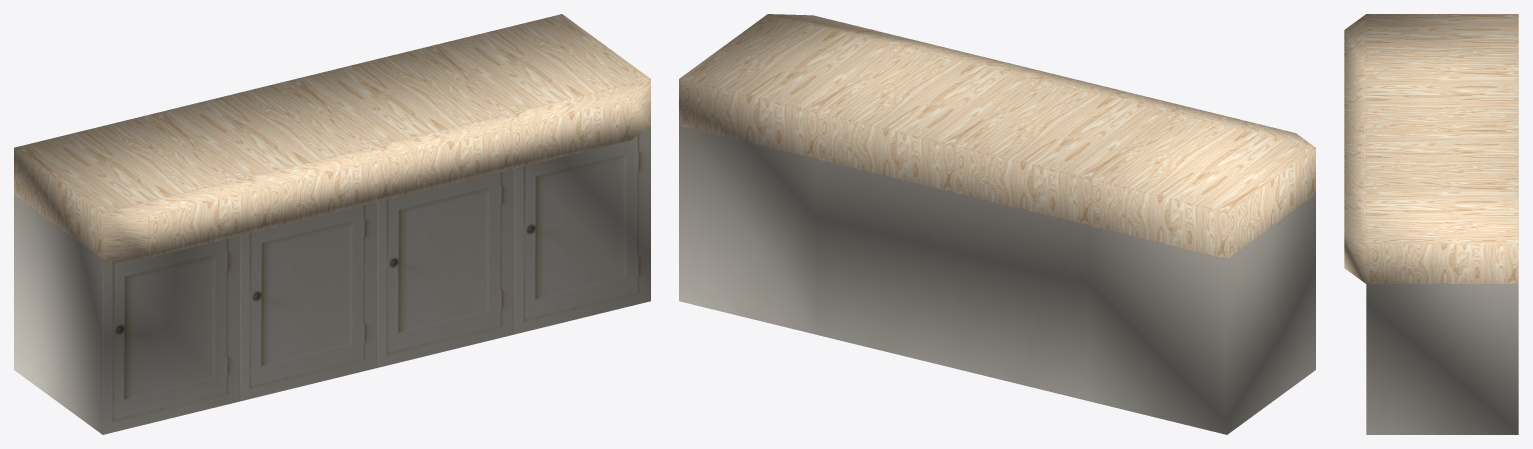
Rendered from kitchen_cabinet_top.fbx.
3 renders of one model, left to right at view 1: azimuth 30°, elevation 25°; view 2: azimuth 150°, elevation 25°; view 3: azimuth 270°, elevation 25°, orthographic. The views are drawn at different scales.
Visible parts, largest first — view 1: kitchen_cabinet_top; view 2: kitchen_cabinet_top; view 3: kitchen_cabinet_top.
Boxes of the visible parts, box(x1,y1,x2,y2) form: kitchen_cabinet_top: box(14, 14, 650, 434); kitchen_cabinet_top: box(679, 14, 1315, 434); kitchen_cabinet_top: box(1344, 14, 1518, 434).
Bounding box in the file's own units: 439 × 170 × 141.
1 material, 1 textured.
